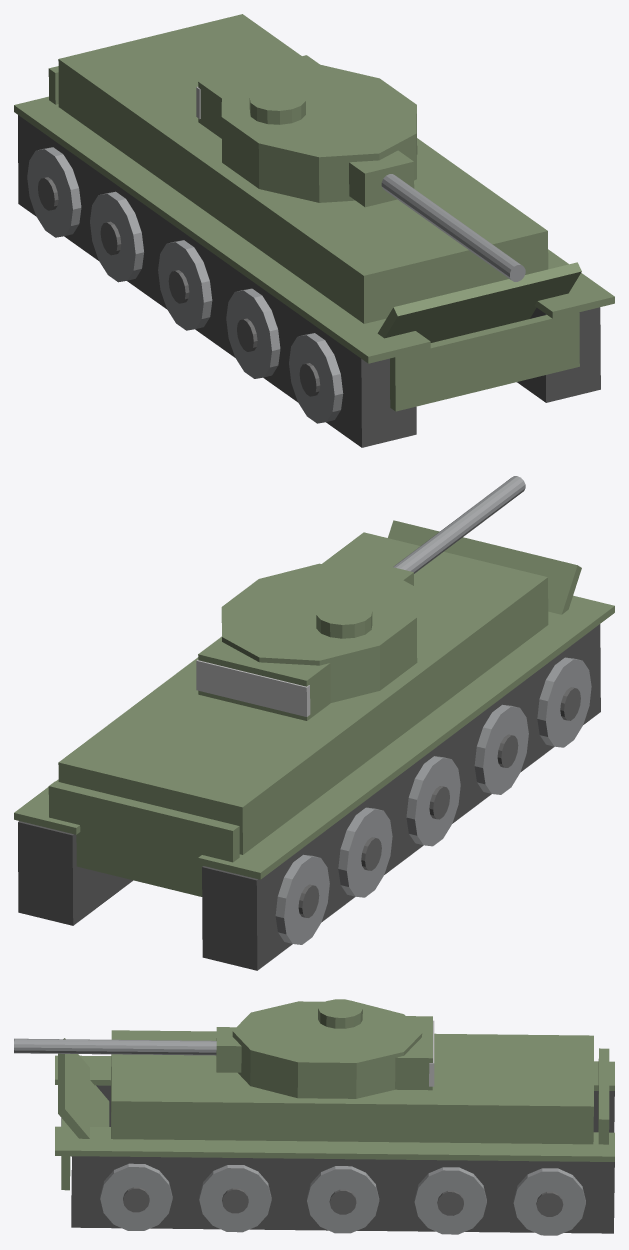
3 renders of one model, top to bottom at view 1: azimuth 30°, elevation 25°; view 2: azimuth 150°, elevation 25°; view 3: azimuth 270°, elevation 25°, orthographic. The views are drawn at different scales.
Visible parts, largest first — view 1: Hull, TurretBody, Track, Fender, NosePlate, Glacis, Track.001, Wheel.004, Wheel.002, Wheel, Wheel.001, Wheel.003 (+5 smaller); view 2: Hull, Track, TurretBody, Fender, RearPlate, Track.001, Glacis, Bustle, FactionBand, Wheel.001, Wheel.002, Wheel.003 (+5 smaller); view 3: Hull, Track.001, TurretBody, Fender.001, Wheel.008, Wheel.007, Wheel.006, Wheel.009, Wheel.005, Glacis, Barrel, Bustle (+11 smaller).
Part boxes in pixels (x1=…): Hull: x1=58, y1=14, x2=548, y2=323; TurretBody: x1=221, y1=64, x2=417, y2=202; Track: x1=18, y1=115, x2=416, y2=447; Fender: x1=14, y1=96, x2=430, y2=363; NosePlate: x1=390, y1=312, x2=579, y2=411; Glacis: x1=377, y1=262, x2=581, y2=342; Track.001: x1=517, y1=307, x2=600, y2=402; Wheel.004: x1=27, y1=147, x2=81, y2=237; Wheel.002: x1=158, y1=240, x2=212, y2=330; Wheel: x1=289, y1=333, x2=343, y2=423; Wheel.001: x1=226, y1=288, x2=280, y2=378; Wheel.003: x1=90, y1=191, x2=143, y2=282; Hull: x1=58, y1=532, x2=548, y2=854; Track: x1=202, y1=624, x2=600, y2=970; TurretBody: x1=221, y1=563, x2=417, y2=702; Fender: x1=198, y1=595, x2=614, y2=879; RearPlate: x1=48, y1=781, x2=239, y2=896; Track.001: x1=18, y1=821, x2=133, y2=925; Glacis: x1=388, y1=520, x2=581, y2=614; Bustle: x1=198, y1=636, x2=330, y2=720; FactionBand: x1=196, y1=659, x2=310, y2=716; Wheel.001: x1=474, y1=704, x2=528, y2=794; Wheel.002: x1=406, y1=756, x2=460, y2=846; Wheel.003: x1=338, y1=807, x2=392, y2=897; Hull: x1=111, y1=1030, x2=593, y2=1144; Track.001: x1=71, y1=1156, x2=614, y2=1233; TurretBody: x1=232, y1=1001, x2=422, y2=1098; Fender.001: x1=55, y1=1126, x2=614, y2=1161; Wheel.008: x1=414, y1=1167, x2=486, y2=1234; Wheel.007: x1=307, y1=1166, x2=379, y2=1233; Wheel.006: x1=199, y1=1165, x2=271, y2=1232; Wheel.009: x1=513, y1=1168, x2=585, y2=1235; Wheel.005: x1=100, y1=1163, x2=172, y2=1230; Glacis: x1=58, y1=1038, x2=109, y2=1138; Barrel: x1=14, y1=1038, x2=216, y2=1055; Bustle: x1=395, y1=1016, x2=432, y2=1090.
Size of the model in its own units: 2.8 by 2.13 by 6.98.
